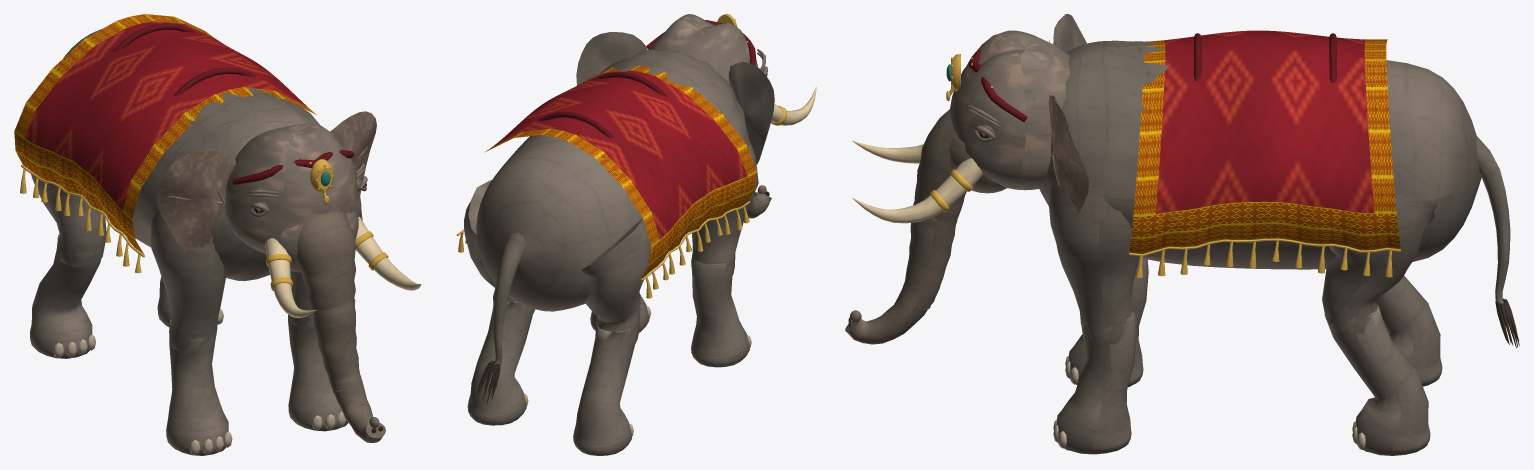
Rendered from elephant-royal.glb.
The picture shows the model from 3 angles, left to right: view 1: azimuth 30°, elevation 25°; view 2: azimuth 150°, elevation 25°; view 3: azimuth 270°, elevation 25°; orthographic projection. The views are drawn at different scales.
Parts seen in each view (by area): view 1: BodyPivot, HeadGroup, LegFR, KneeFR, EarR, KneeBR, TrunkBase, KneeFL, LegBR, TrunkMid, TrunkTip, EarL (+2 smaller); view 2: BodyPivot, KneeBR, LegBR, HeadGroup, KneeFR, KneeBL, EarR, TailPivot, LegFR, EarL, LegBL, TrunkTip (+1 smaller); view 3: BodyPivot, HeadGroup, LegFL, KneeBL, KneeFL, LegBL, KneeBR, TrunkMid, TailPivot, TrunkBase, TrunkTip, EarL (+2 smaller).
Part boxes in pixels (<box>): BodyPivot: <box>14,14,319,280</box>; HeadGroup: <box>225,123,421,318</box>; LegFR: <box>150,210,225,354</box>; KneeFR: <box>166,320,232,455</box>; EarR: <box>156,151,236,255</box>; KneeBR: <box>30,234,103,358</box>; TrunkBase: <box>296,211,355,316</box>; KneeFL: <box>288,314,348,431</box>; LegBR: <box>30,170,106,266</box>; TrunkMid: <box>313,299,360,392</box>; TrunkTip: <box>332,367,385,442</box>; EarL: <box>330,111,376,195</box>; BodyPivot: <box>456,49,756,311</box>; KneeBR: <box>573,325,636,455</box>; LegBR: <box>580,218,651,346</box>; HeadGroup: <box>646,14,816,125</box>; KneeFR: <box>691,259,751,367</box>; KneeBL: <box>467,296,532,425</box>; EarR: <box>728,61,774,164</box>; TailPivot: <box>477,232,525,403</box>; LegFR: <box>691,141,758,279</box>; EarL: <box>576,32,647,85</box>; LegBL: <box>464,180,535,316</box>; TrunkTip: <box>747,185,771,218</box>; BodyPivot: <box>1039,30,1481,277</box>; HeadGroup: <box>852,30,1069,223</box>; LegFL: <box>1048,185,1139,345</box>; KneeBL: <box>1324,303,1430,455</box>; KneeFL: <box>1053,310,1136,454</box>; LegBL: <box>1322,193,1436,339</box>; KneeBR: <box>1375,275,1442,386</box>; TrunkMid: <box>905,201,957,309</box>; TailPivot: <box>1476,136,1519,348</box>; TrunkBase: <box>914,109,966,227</box>; TrunkTip: <box>845,281,940,344</box>; EarL: <box>1048,95,1088,214</box>.
Bounding box in the file's own units: 1.8 × 2.53 × 4.19.
2 materials, 2 textured.
